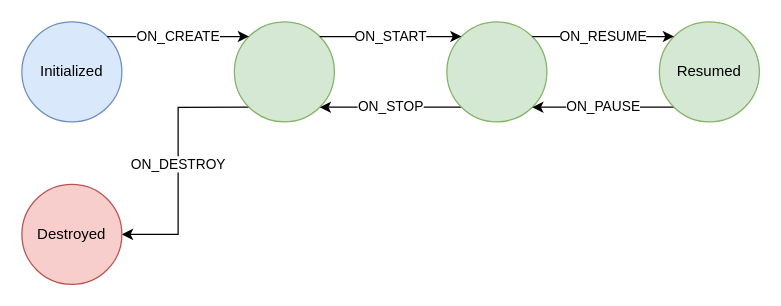
The diagram is 781 pixels wide and 306 high, and some of its shapes have lost their labels. The shapes that lost their labels are listed below. From the top down, each one's centre as x and y in pixels, then its label:
At (x=283, y=71): "Created".
At (x=496, y=71): "Started".
